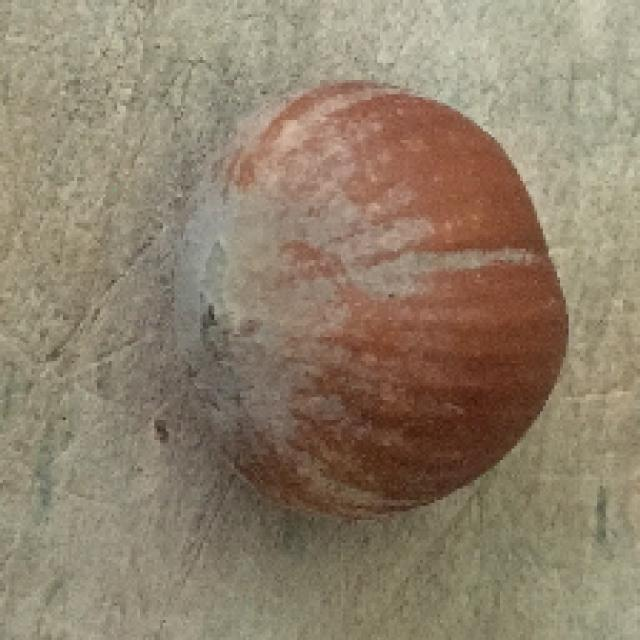QualityHazelnut: (174, 82, 574, 525)
